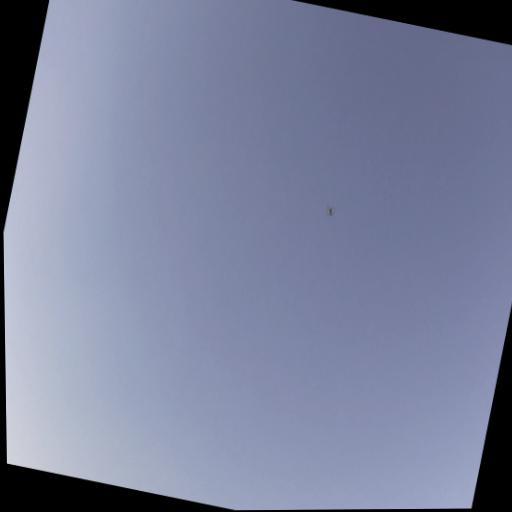drones: (324, 205, 335, 218)
